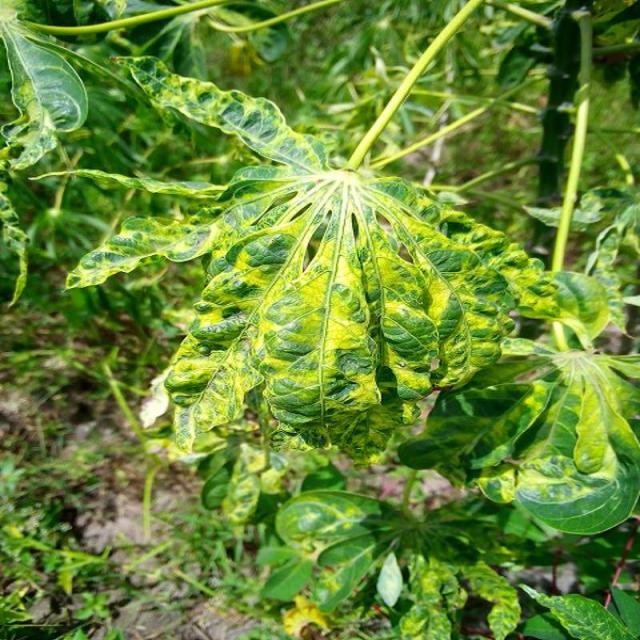cassava leaf: (60, 3, 638, 542)
